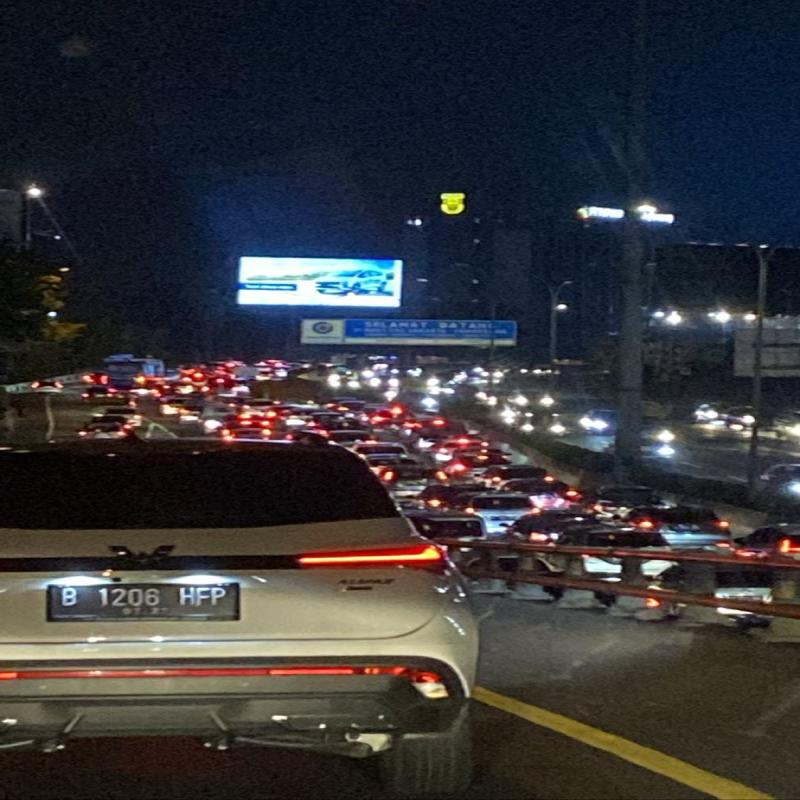license plate on a car: (36, 572, 241, 640)
